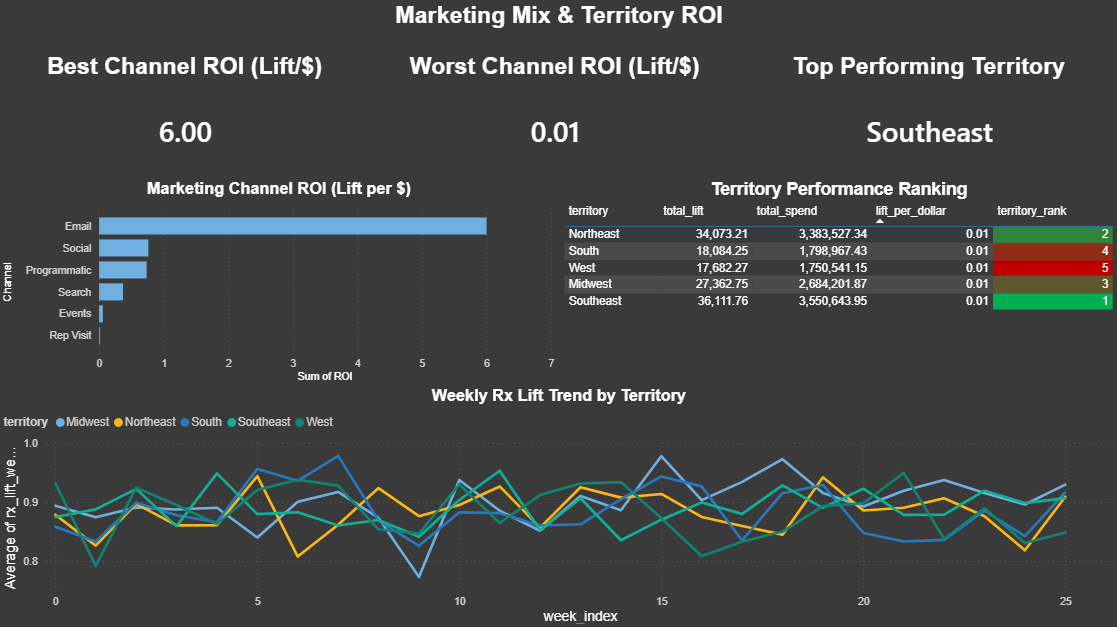

The dashboard page shown, as its layout file describes it:
{"tool":"powerbi","page":{"name":"Marketing Mix & Territory ROI","canvas":[1280,720],"ordinal":2},"visuals":[{"type":"textbox","box":[0,0,1280,62.9],"z":0},{"type":"clusteredBarChart","title":"Marketing Channel ROI (Lift per $)","fields":{"Category":["ChannelROI.Channel"],"Y":["Sum(ChannelROI.ROI)"]},"box":[0,207.1,640,237.1],"z":1000},{"type":"tableEx","title":"Territory Performance Ranking","fields":{"Values":["pharmaanalytics vw_territory_ranking.territory","pharmaanalytics vw_territory_ranking.total_lift","pharmaanalytics vw_territory_ranking.total_spend","pharmaanalytics vw_territory_ranking.lift_per_dollar","pharmaanalytics vw_territory_ranking.territory_rank"]},"box":[640,207.1,640,237.1],"z":2000},{"type":"lineChart","title":"Weekly Rx Lift Trend by Territory","fields":{"Y":["Avg(pharmaanalytics hcp_marketing.rx_lift_weekly)"],"Series":["pharmaanalytics hcp_marketing.territory"],"Category":["pharmaanalytics hcp_marketing.week_index"]},"box":[0,444.3,1280,275.7],"z":2001},{"type":"cardVisual","title":"Best Channel ROI (Lift/$)","fields":{"Data":["ChannelROI.Best Channel ROI"]},"box":[0,62.9,424.3,144.3],"z":2002},{"type":"cardVisual","title":"Worst Channel ROI (Lift/$)","fields":{"Data":["ChannelROI.Worst Channel ROI"]},"box":[424.3,62.9,421.4,144.3],"z":2003},{"type":"cardVisual","title":"Top Performing Territory","fields":{"Data":["ChannelROI.Top Territory"]},"box":[845.7,62.9,434.3,144.3],"z":2004}]}

Visuals, with their boxes in screenshot pixels (x1, y1, x2, y2), scaled from the page's 1280x720 canvas onto the 1117x627 screenshot:
textbox: x1=0 y1=0 x2=1116 y2=55
"Marketing Channel ROI (Lift per $)" clusteredBarChart: x1=0 y1=180 x2=558 y2=387
"Territory Performance Ranking" tableEx: x1=558 y1=180 x2=1116 y2=387
"Weekly Rx Lift Trend by Territory" lineChart: x1=0 y1=387 x2=1116 y2=626
"Best Channel ROI (Lift/$)" cardVisual: x1=0 y1=55 x2=370 y2=180
"Worst Channel ROI (Lift/$)" cardVisual: x1=370 y1=55 x2=738 y2=180
"Top Performing Territory" cardVisual: x1=738 y1=55 x2=1116 y2=180
